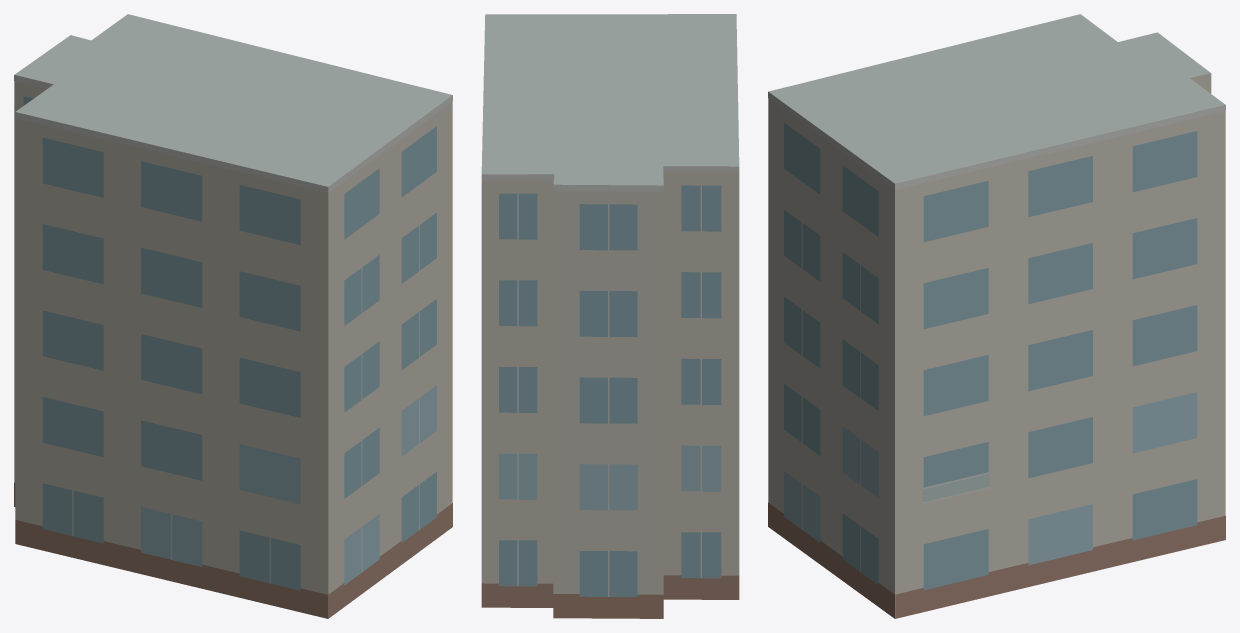
File: survey-upis-32810656.glb
The picture shows the model from 3 angles, left to right: view 1: azimuth 30°, elevation 25°; view 2: azimuth 150°, elevation 25°; view 3: azimuth 270°, elevation 25°; orthographic projection.
Visible parts, largest first — view 1: survey-upis-32810656.tmp; view 2: survey-upis-32810656.tmp; view 3: survey-upis-32810656.tmp.
Part boxes in pixels (x1,y1,x2,y2): survey-upis-32810656.tmp: [14, 14, 452, 618]; survey-upis-32810656.tmp: [481, 14, 739, 618]; survey-upis-32810656.tmp: [768, 14, 1225, 618].
Bounding box in the file's own units: 14.07 × 16.8 × 16.02.
